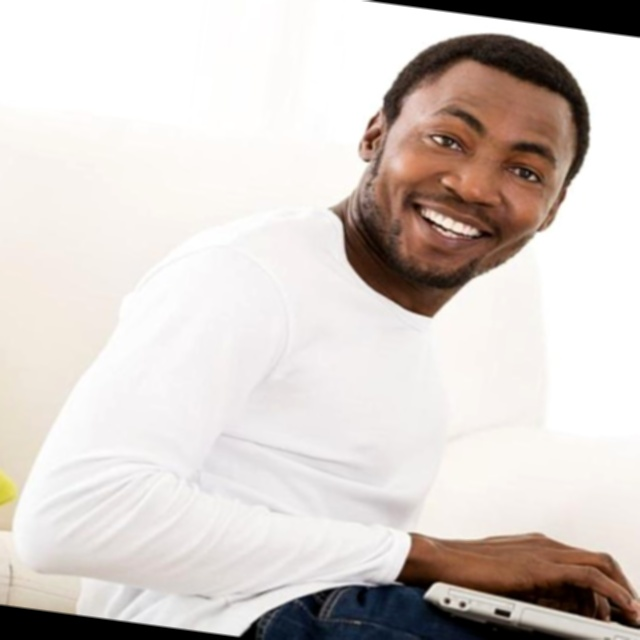Sin_Casco_Mascarrilla: (341, 17, 608, 298)
